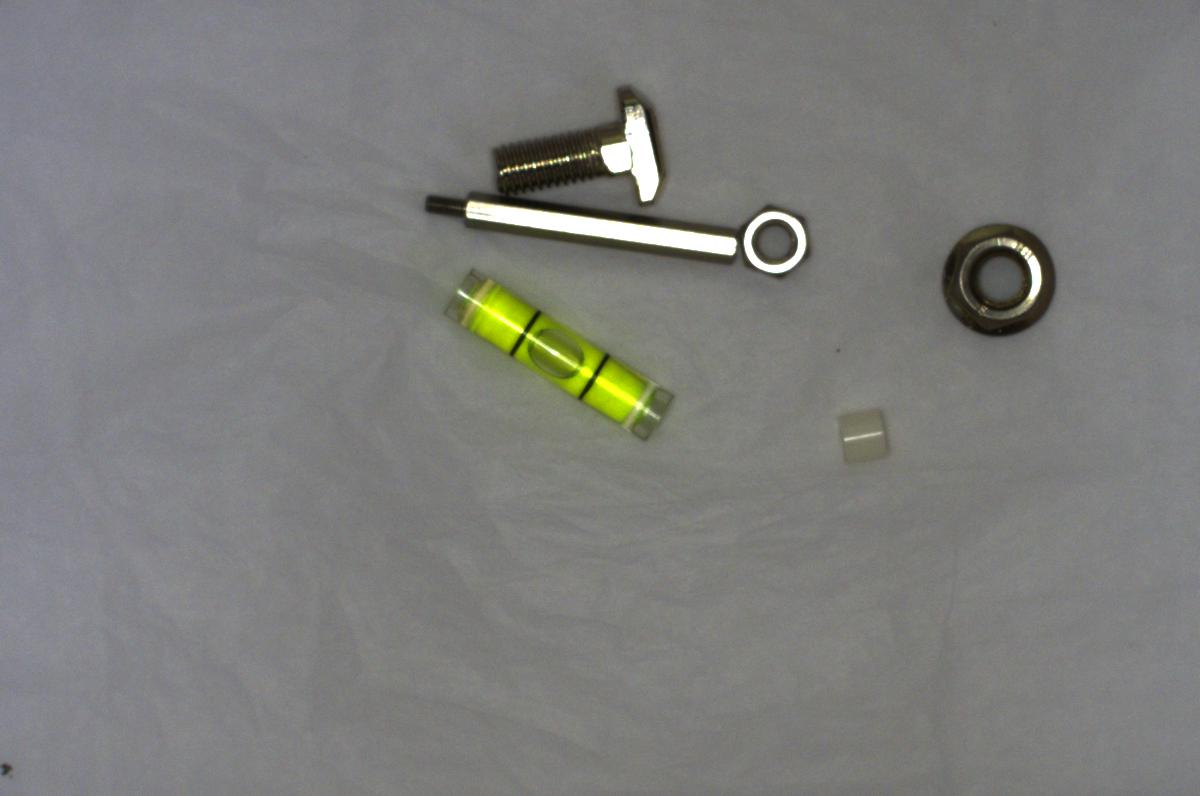Flange nut: (930, 209, 1061, 348)
Hexagon nut: (737, 194, 811, 287)
Hexagonal steel column: (421, 180, 743, 271)
Horizontal bubble: (443, 268, 683, 445)
Plastic cushion pillar: (817, 398, 894, 473)
T-shaped screw: (494, 82, 673, 205)
